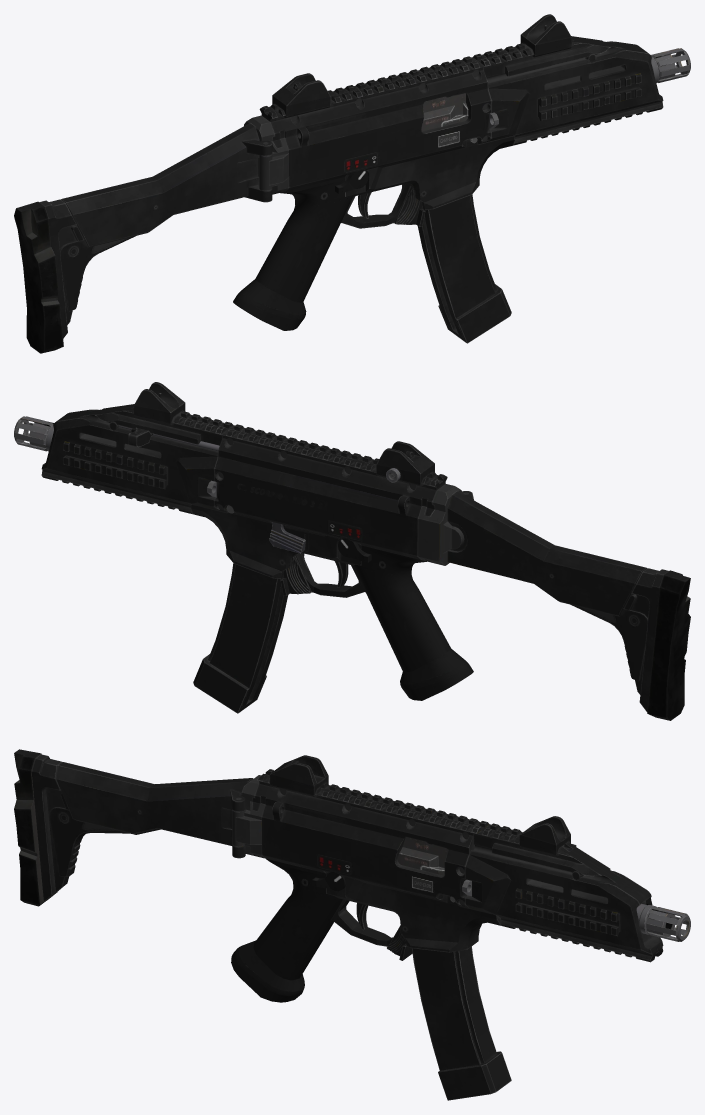
File: scorpion.glb
3 views of the same model, one above another, from view 1: azimuth 30°, elevation 25°; view 2: azimuth 150°, elevation 25°; view 3: azimuth 330°, elevation 25° (orthographic).
Parts seen in each view (by area): view 1: base, mag, bolt; view 2: base, mag; view 3: base, mag, bolt.
Boxes of the visible parts, x1,y1,x2,y2 form: base: (14,14,690,353); mag: (417,194,511,343); bolt: (421,93,468,131); base: (14,382,690,720); mag: (193,563,288,713); base: (14,749,690,1002); mag: (412,946,511,1100); bolt: (397,837,576,875).
Bounding box in the file's own units: 0.6595 × 0.2795 × 0.0582.
1 material, 1 textured.
